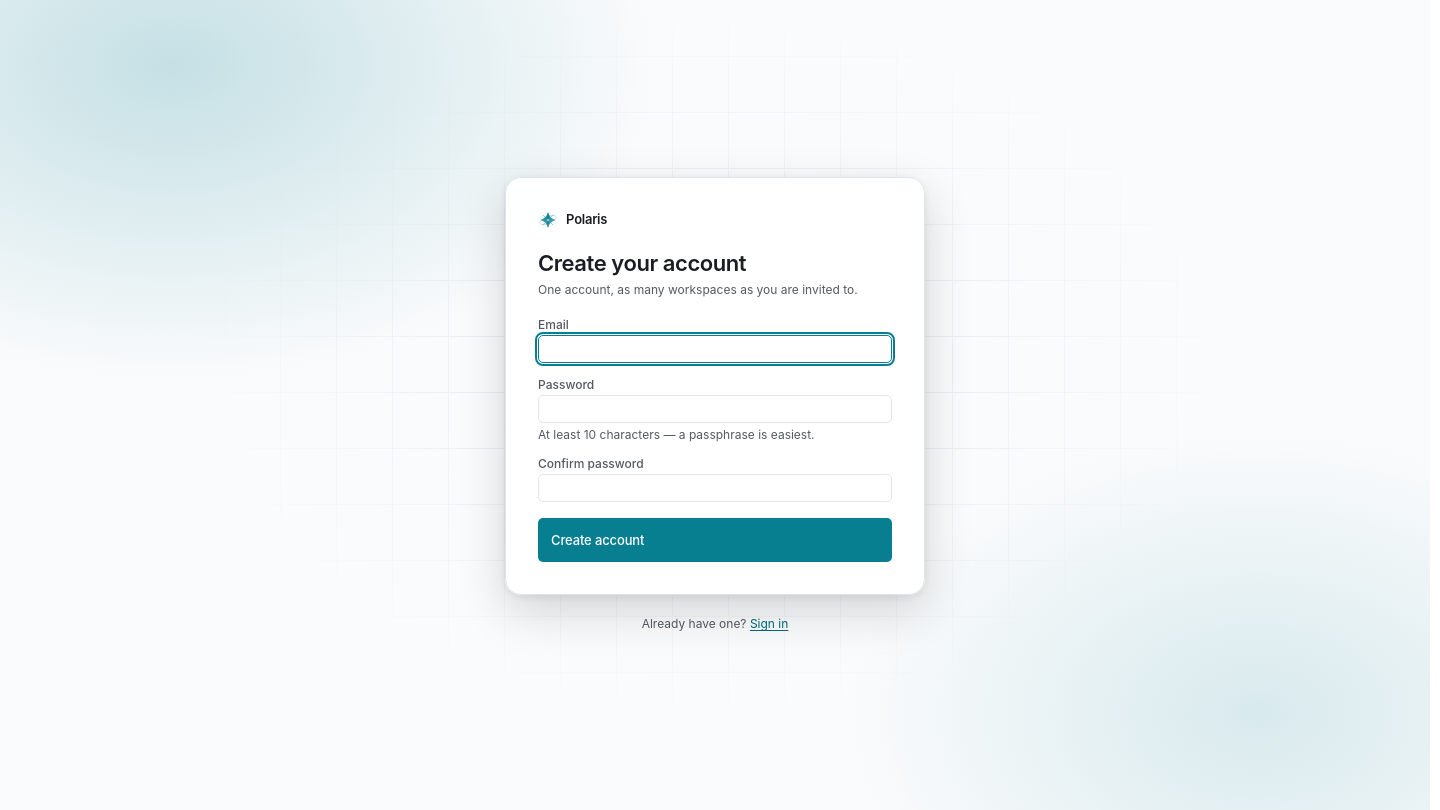
Test case: SignUp › refuses a malformed address before the password is even looked at
Type "ada@example" into the field labelled "Email" at (715, 349), box [547, 336, 883, 362]
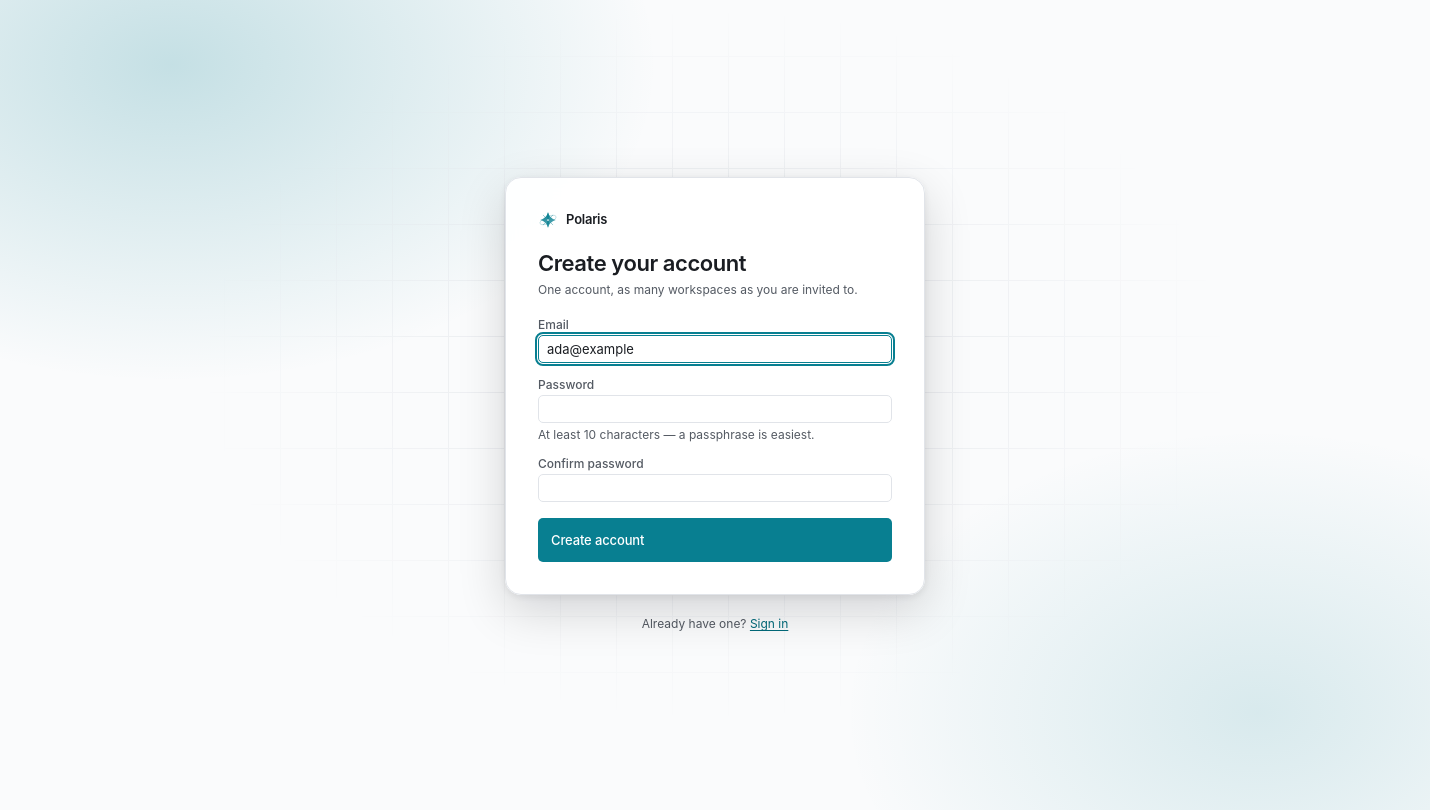
Type "short" into the password field labelled "Password" at (715, 409), box [547, 396, 883, 422]
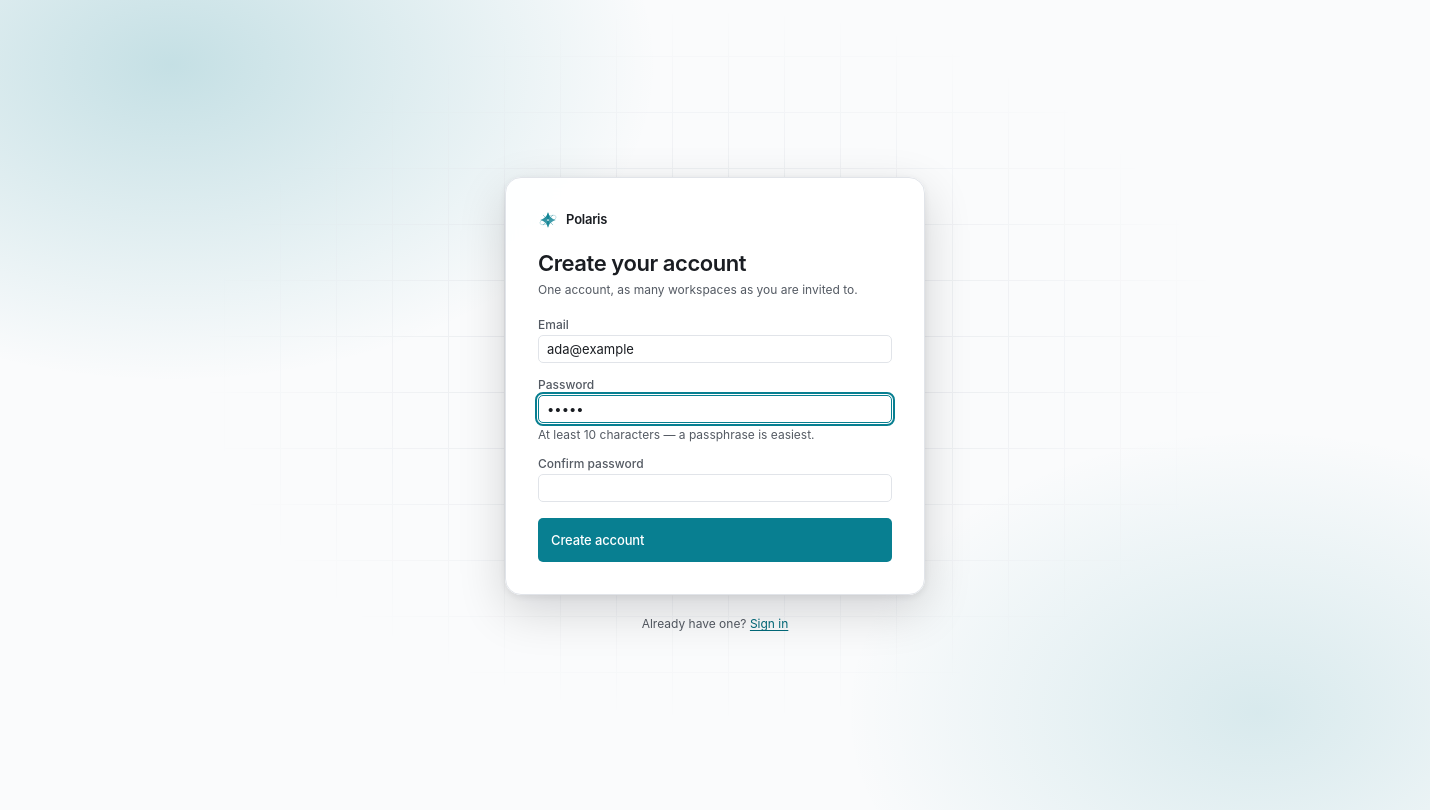
Click the button "Create account" at (598, 540), box [538, 518, 892, 562]
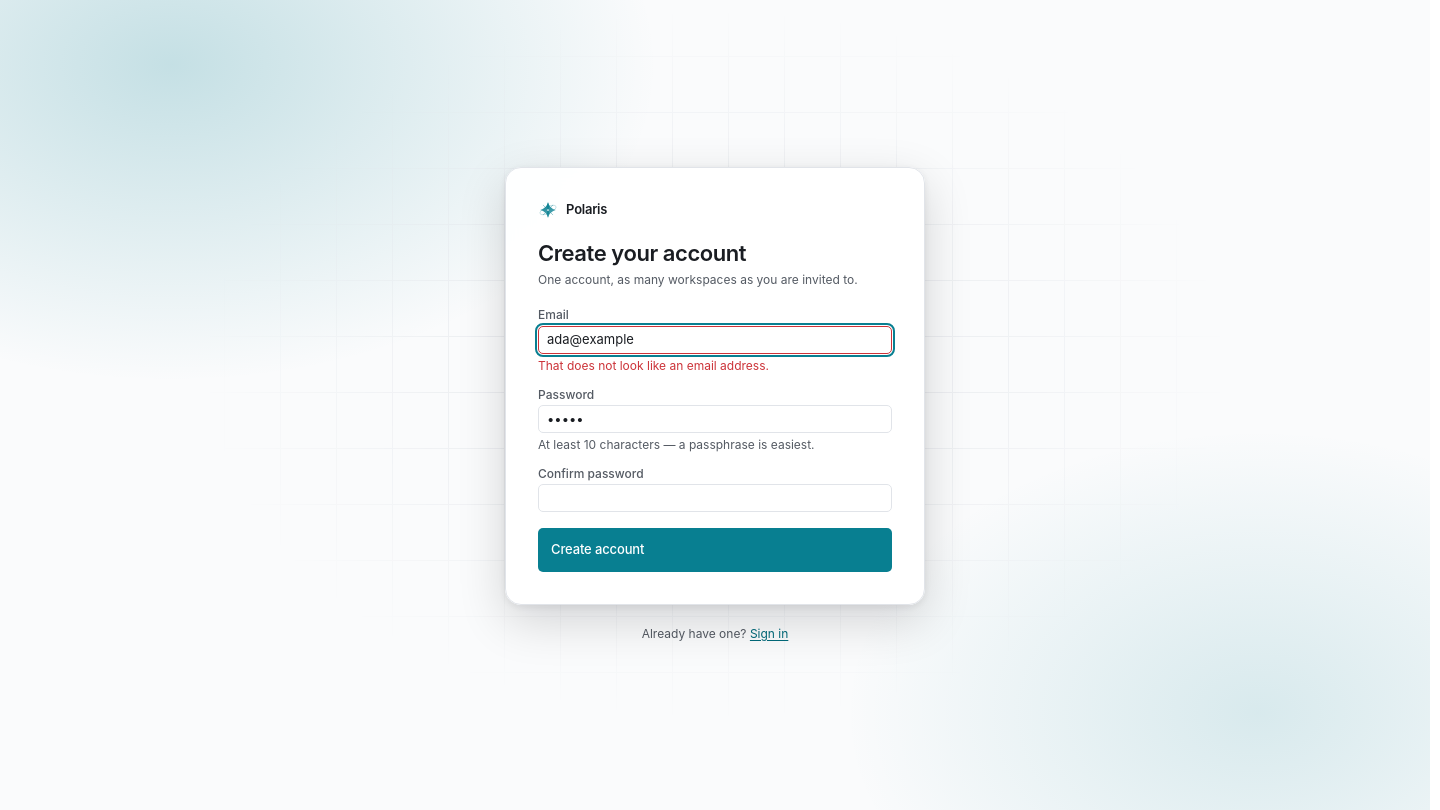
Result: the message shows "email address" at [538, 358, 769, 373]
